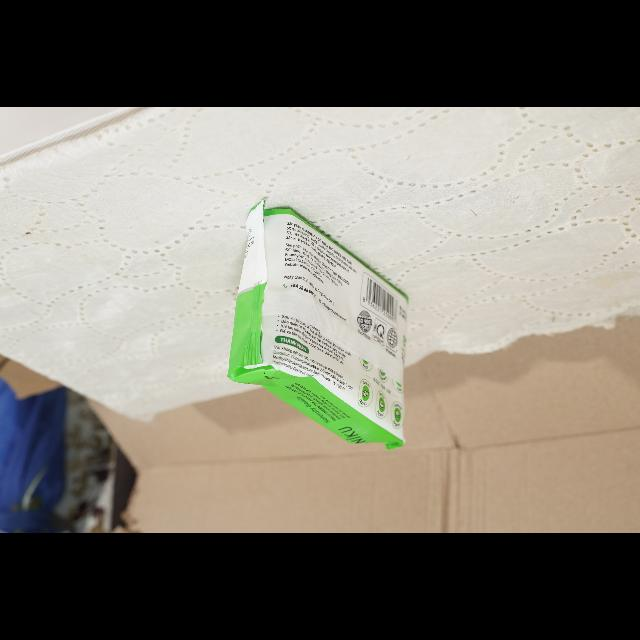khan_giay: (228, 200, 408, 449)
